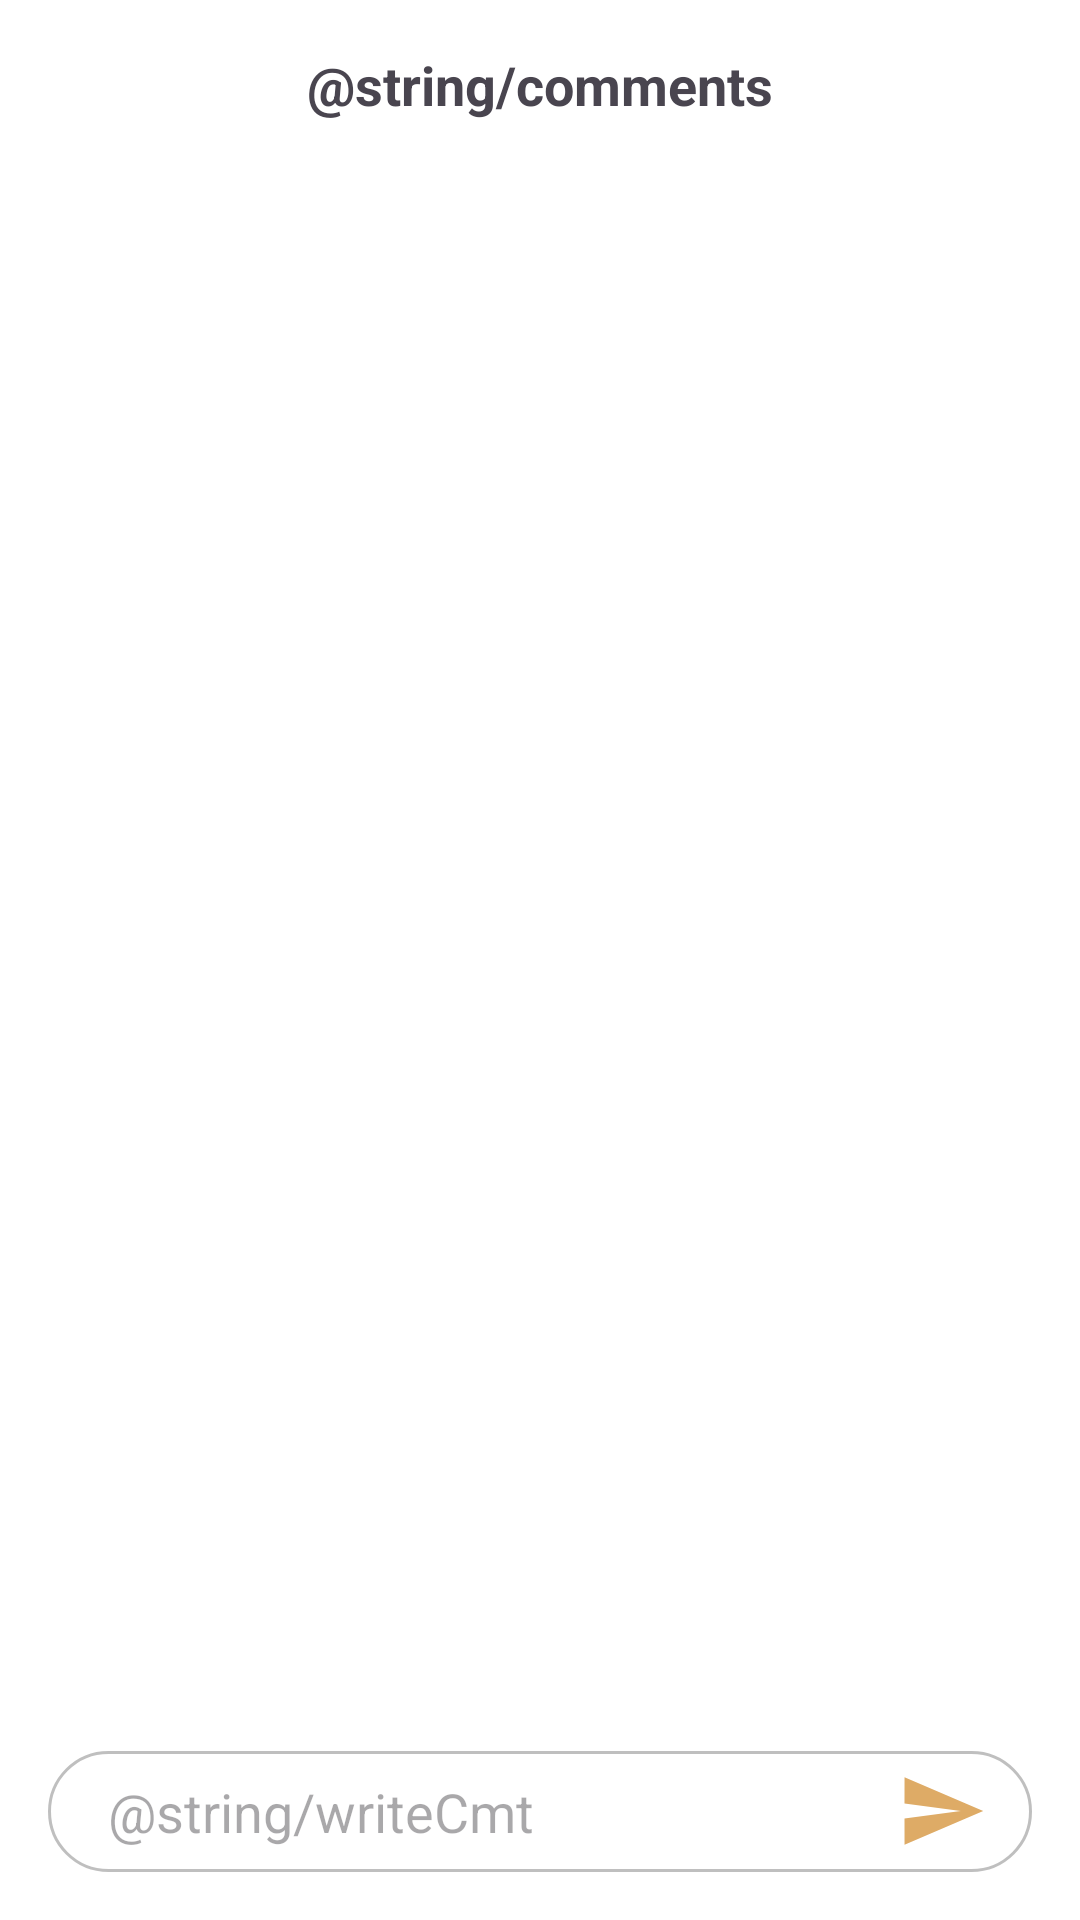

Locate icon controls on the screen. Image size 1080px×1920px, boxes as Rect(x1, y1, x2, y2).
send: Rect(904, 1777, 983, 1845)
